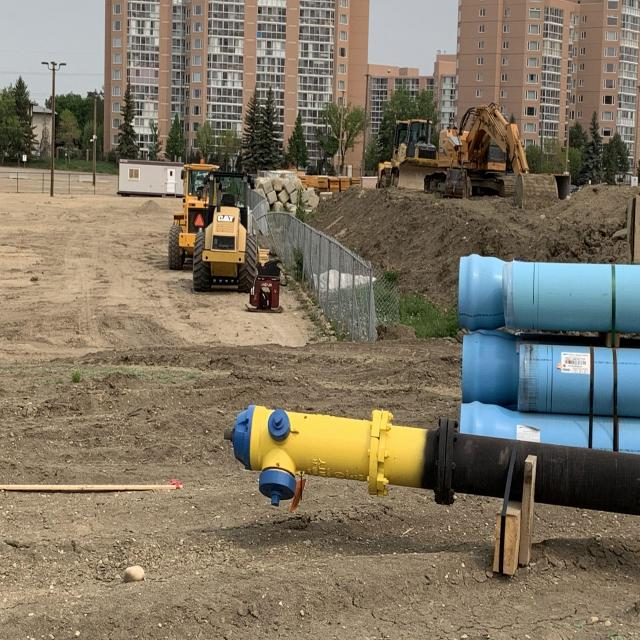Excavator: (438, 102, 561, 211)
Loader: (166, 160, 222, 272)
Roller: (190, 168, 260, 295)
